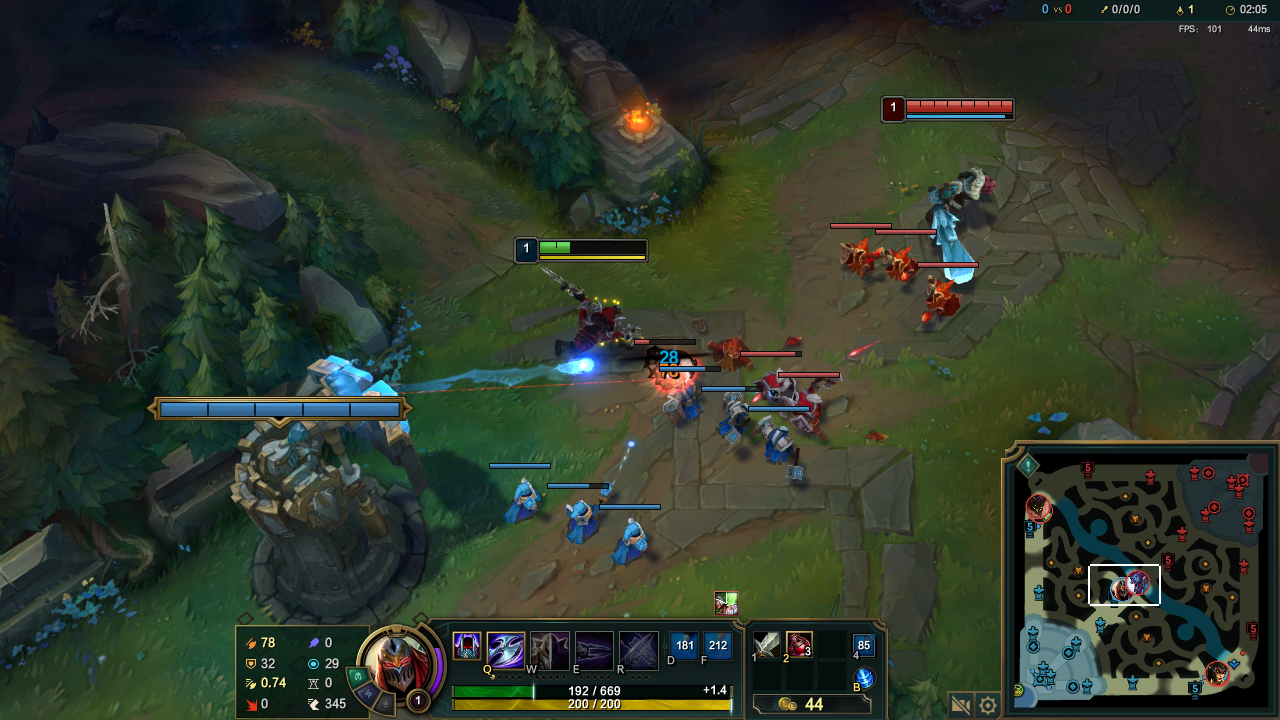DFYX: (908, 99, 1011, 111)
Yita: (1188, 673, 1204, 697)
